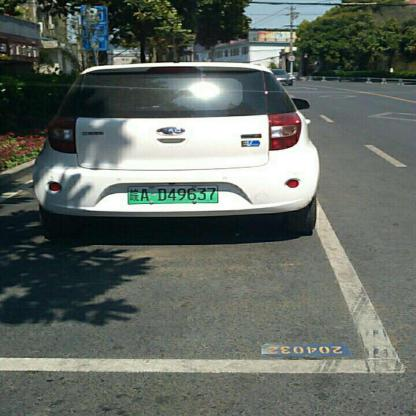lp: (128, 185, 218, 203)
